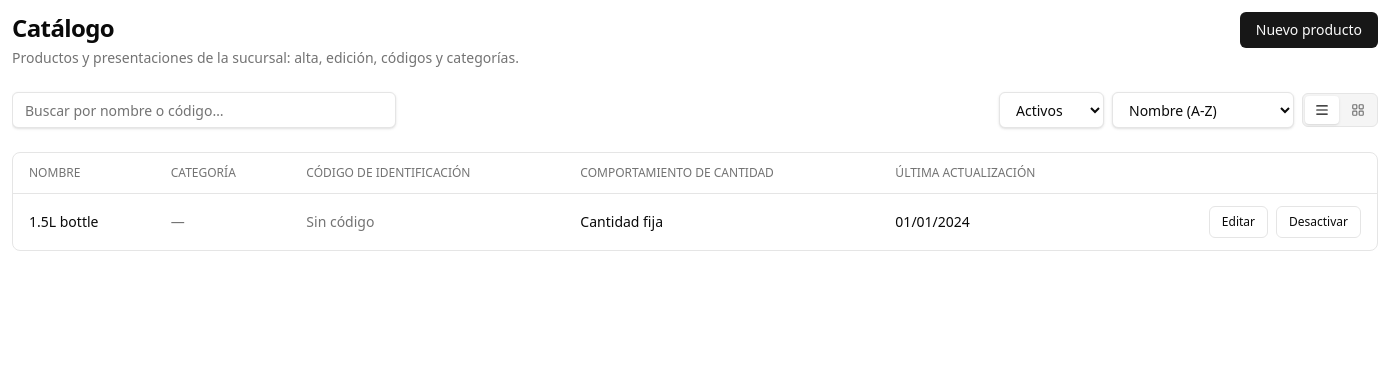
it: CatalogScreen › still saves the identification code when the categories cannot be loaded
This screenshot has width=1390, height=381.
Expected: the text "1.5L bottle" is shown, [29,212,98,232]
Click the button "Editar" at x=1238, y=222, box [1209,206,1268,238]
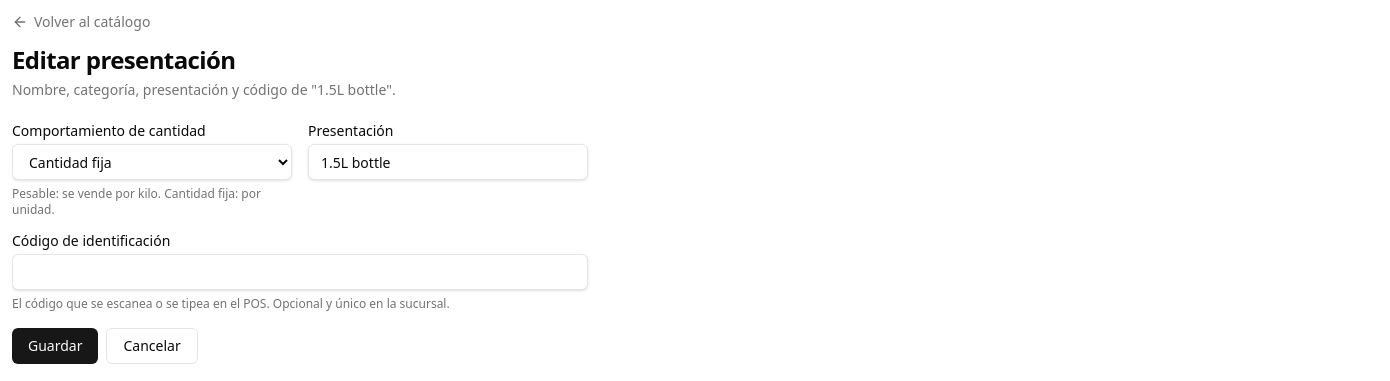
Type "7791234567890" into the field labelled "Código de identificación" at x=300, y=272, box [12,254,588,290]
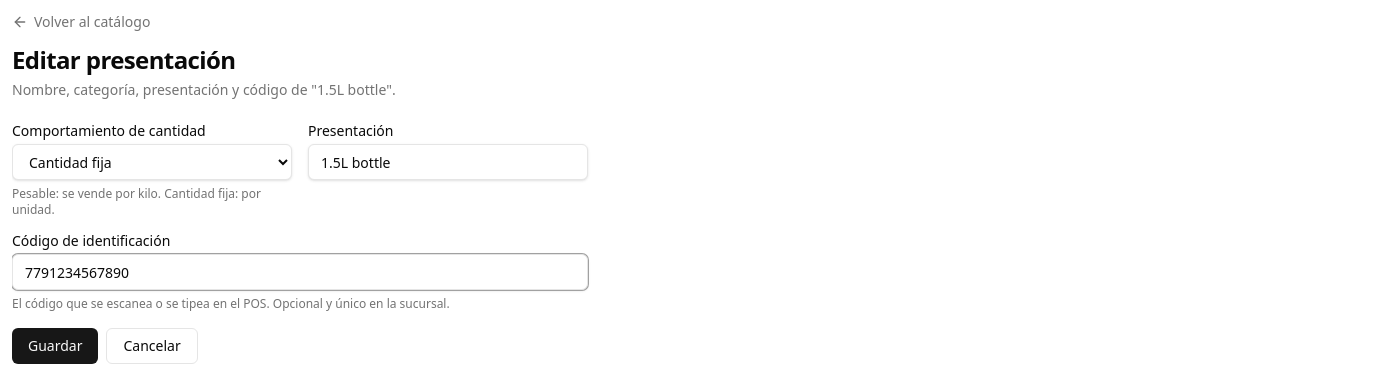
Click the button "Guardar" at x=55, y=346, box [12,328,98,364]
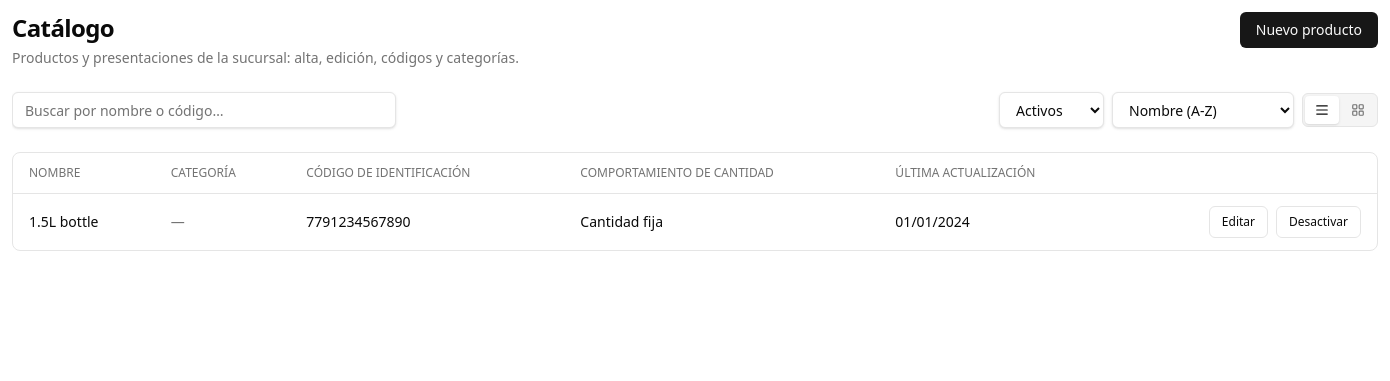
Result: the text "7791234567890" is shown at [290,194,564,250]
